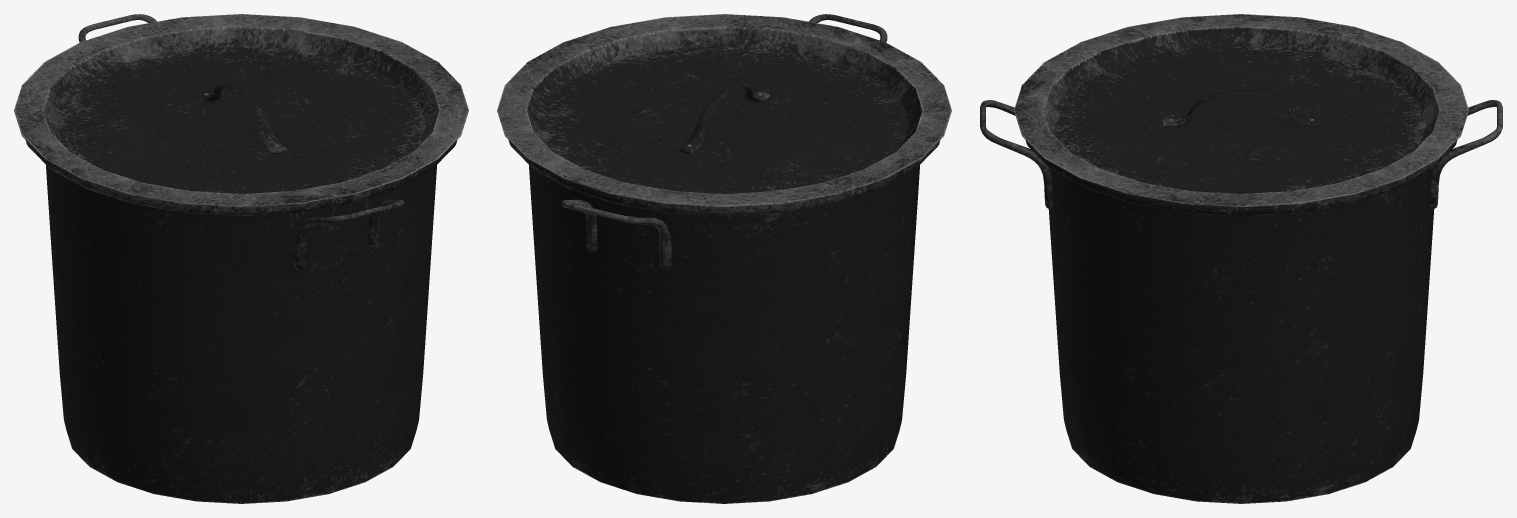
File: pot.glb
3 renders of one model, left to right at view 1: azimuth 30°, elevation 25°; view 2: azimuth 150°, elevation 25°; view 3: azimuth 270°, elevation 25°, orthographic.
Parts seen in each view (by area): view 1: Pot, Pot Coverage; view 2: Pot, Pot Coverage; view 3: Pot, Pot Coverage.
Part boxes in pixels (<box>): Pot: <box>25,14,457,503</box>; Pot Coverage: <box>14,14,468,207</box>; Pot: <box>508,14,940,503</box>; Pot Coverage: <box>497,14,951,207</box>; Pot: <box>980,100,1502,503</box>; Pot Coverage: <box>1014,14,1468,207</box>.
Bounding box in the file's own units: 0.0417 × 0.0342 × 0.048.
Materials: 1 (1 with a texture image).
